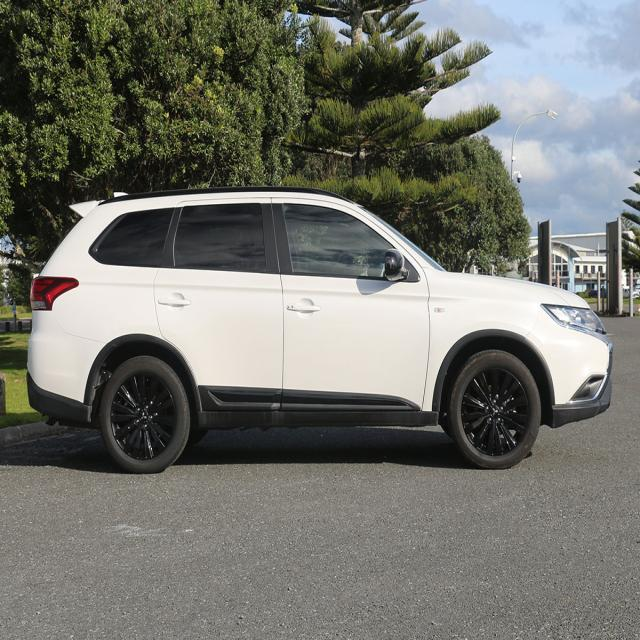light_vehicle: (25, 187, 613, 473)
